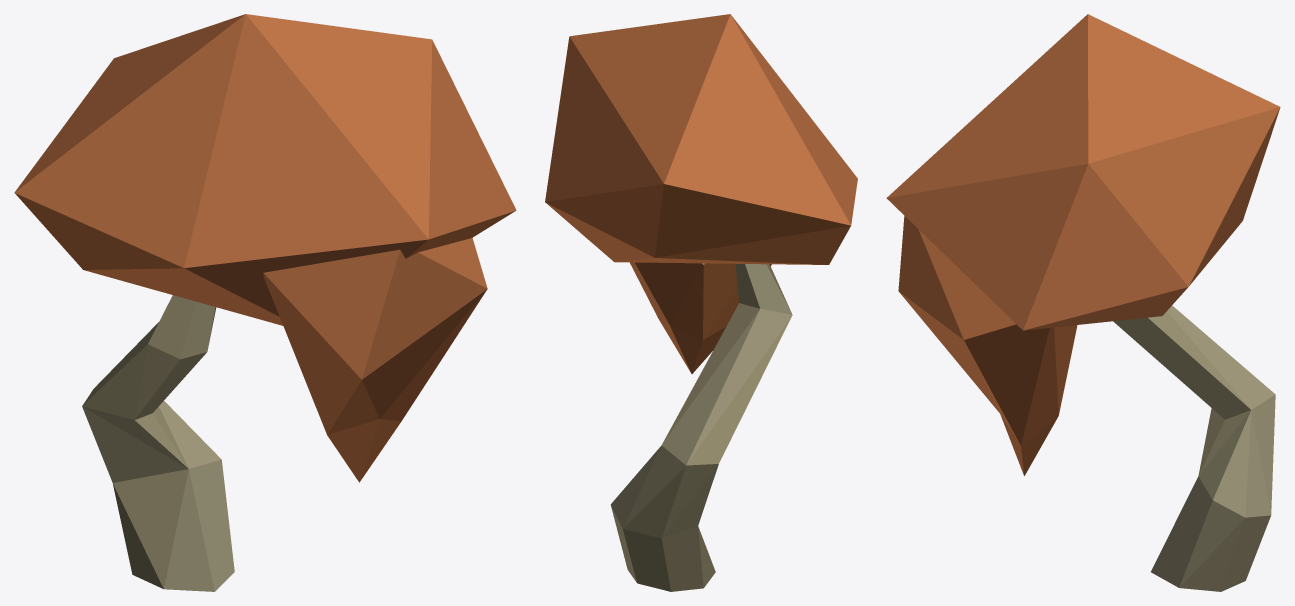
Rendered from TreeAutumn3.fbx.
3 views of the same model, side by side, from view 1: azimuth 30°, elevation 25°; view 2: azimuth 150°, elevation 25°; view 3: azimuth 270°, elevation 25° (orthographic). The views are drawn at different scales.
Parts seen in each view (by area): view 1: TreeAutumn3; view 2: TreeAutumn3; view 3: TreeAutumn3.
Boxes of the visible parts, x1,y1,x2,y2 form: TreeAutumn3: (14, 14, 516, 591); TreeAutumn3: (545, 14, 857, 591); TreeAutumn3: (886, 14, 1280, 591).
Bounding box in the file's own units: 1.23 × 1.68 × 1.08.
